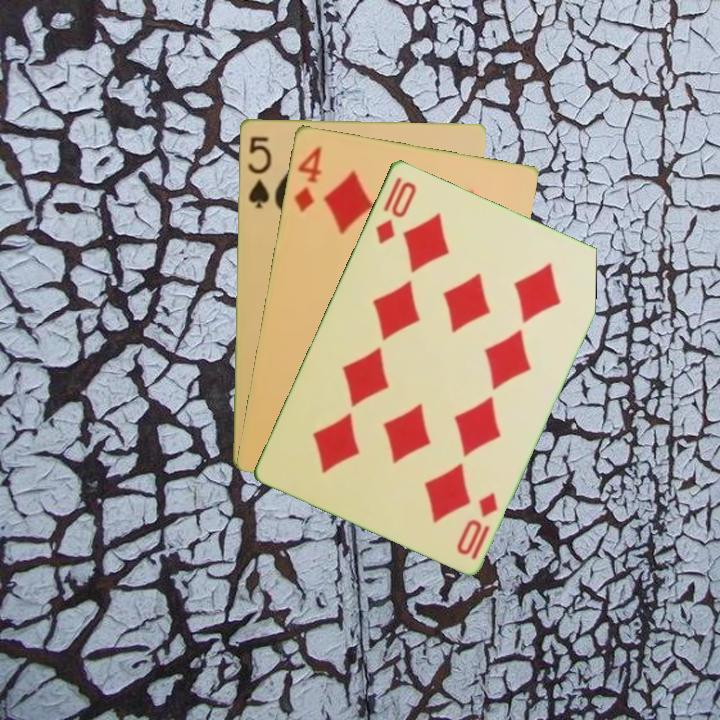10d: (452, 488, 501, 562), (371, 173, 419, 246)
4d: (290, 143, 324, 214)
5s: (244, 132, 274, 211)
